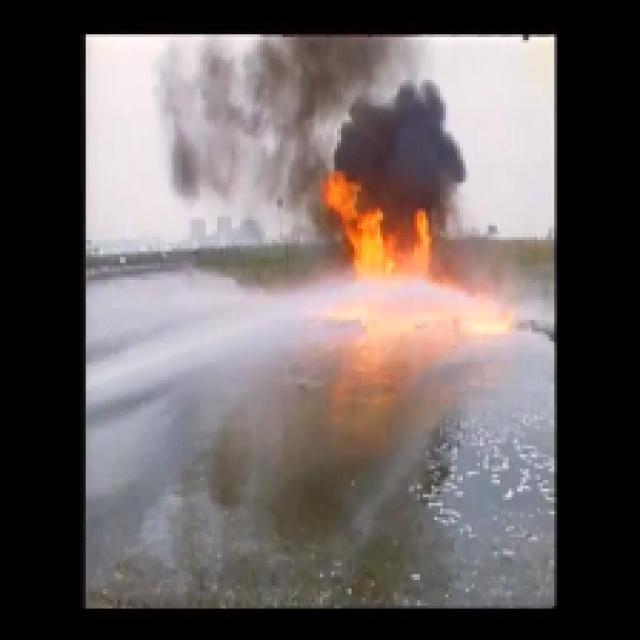Fire: (332, 186, 383, 276)
Smoke: (354, 108, 454, 188)
